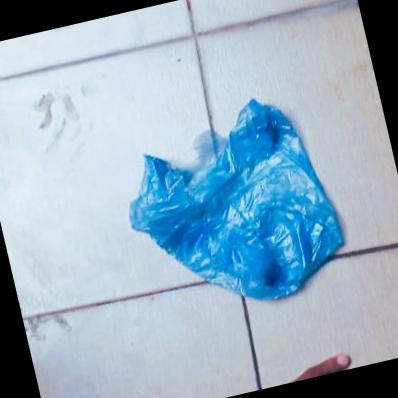Plastik: (110, 84, 352, 325)
